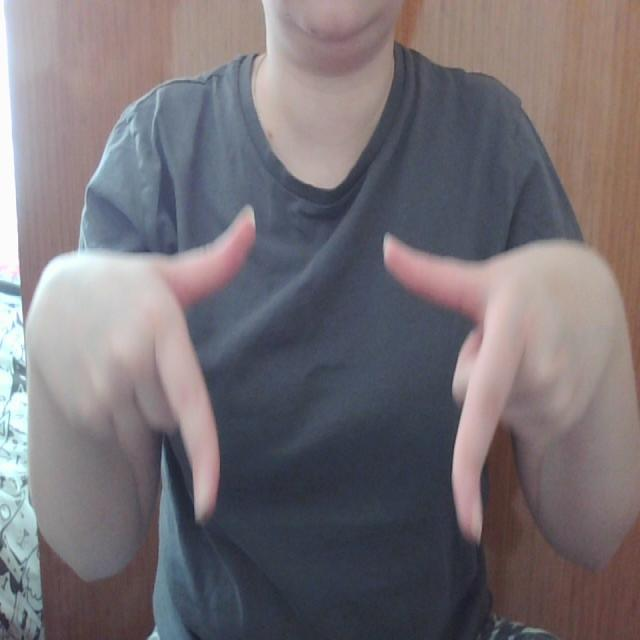Nerede: (144, 197, 536, 548)
